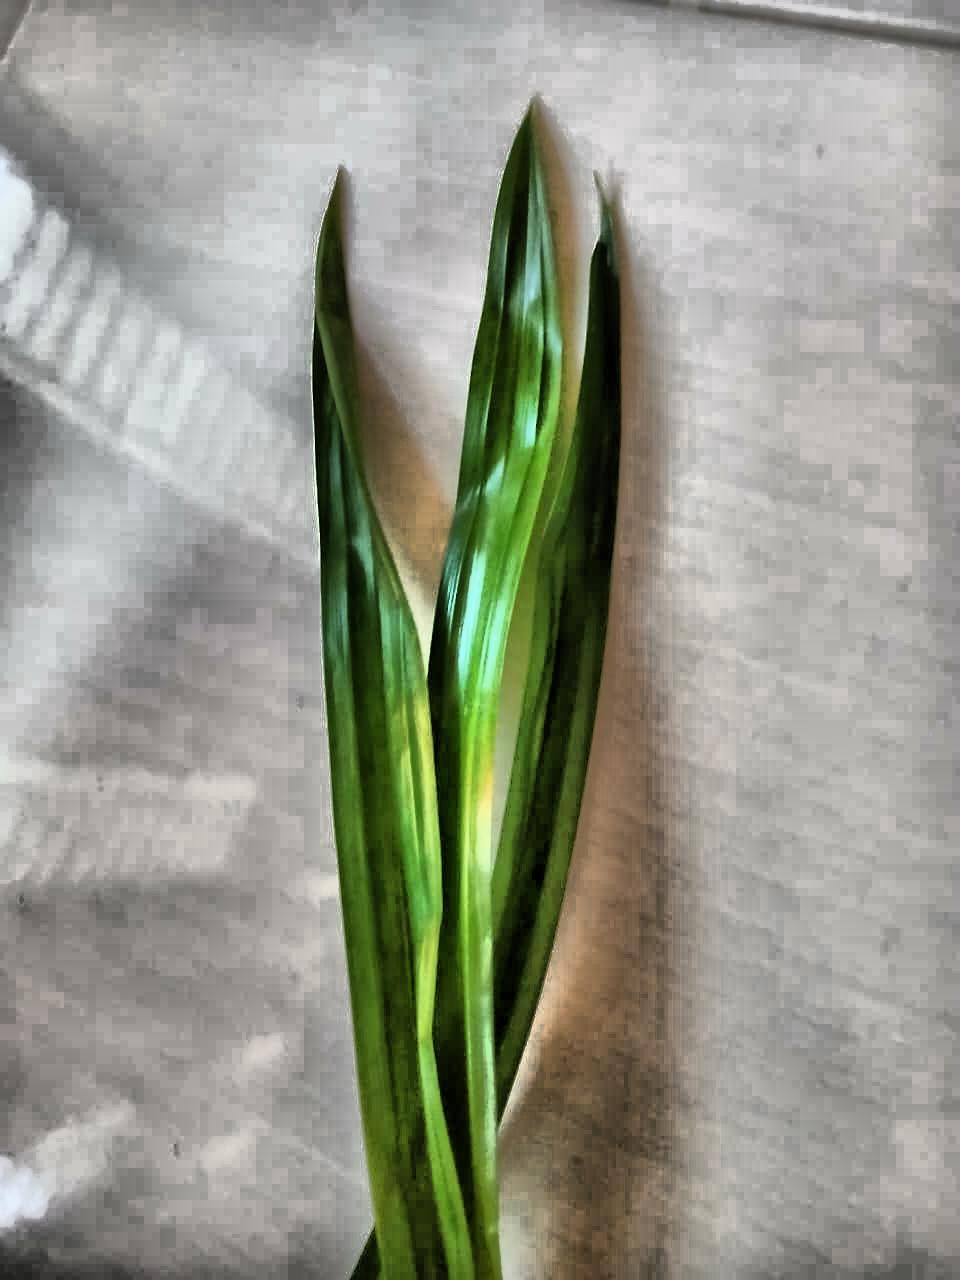daun pandan: (312, 107, 622, 1279)
